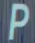Parking: (6, 0, 30, 40)
